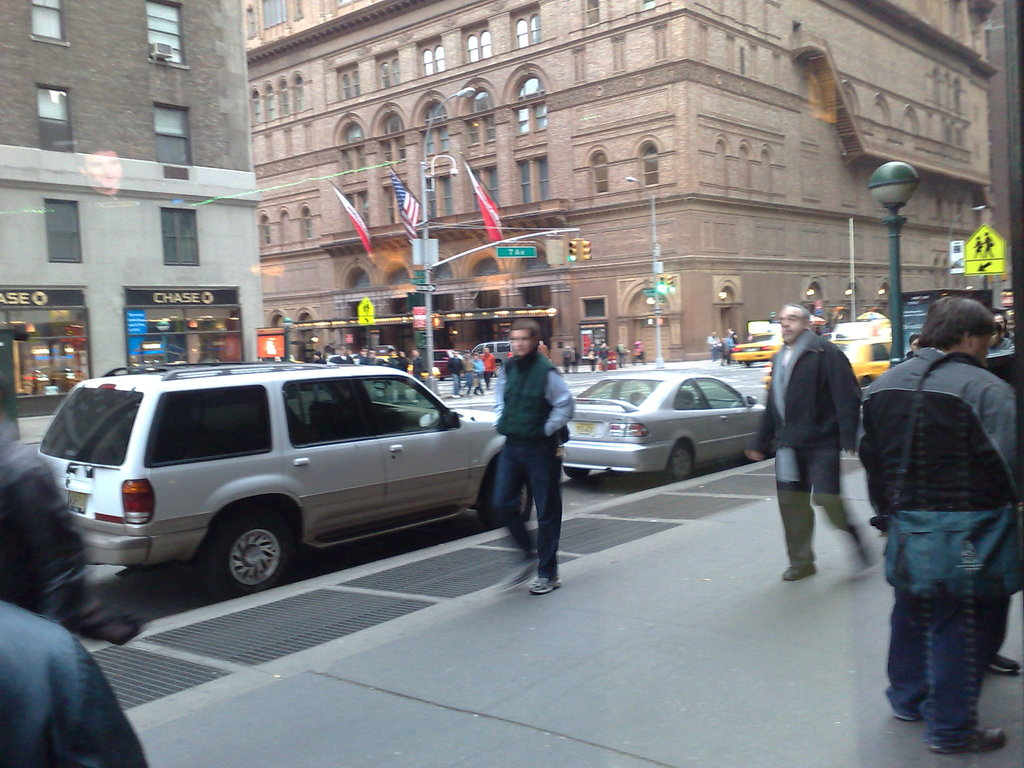Car: (42, 365, 535, 584), (562, 370, 764, 485), (472, 339, 508, 362)
